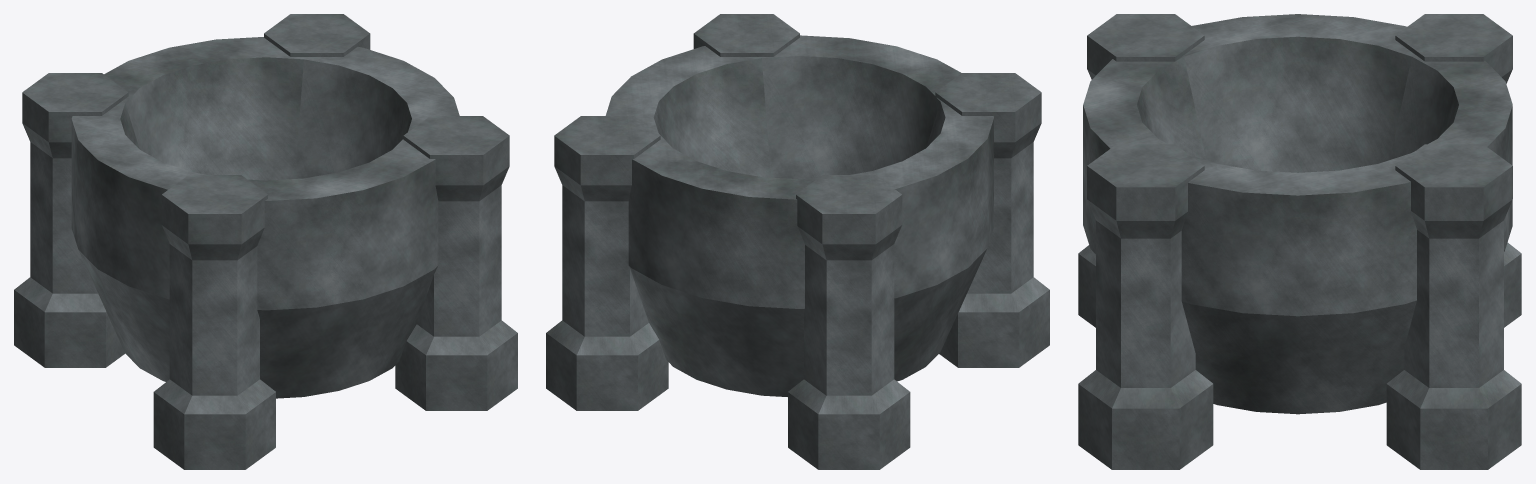
The model's file is Cauldron.fbx.
3 renders of one model, left to right at view 1: azimuth 30°, elevation 25°; view 2: azimuth 150°, elevation 25°; view 3: azimuth 270°, elevation 25°, orthographic. The views are drawn at different scales.
Visible parts, largest first — view 1: detail_light, column_round (×4); view 2: detail_light, column_round (×4); view 3: detail_light, column_round (×4).
Part boxes in pixels (box(x1,y1,x2,y2)): detail_light: box(71, 37, 459, 398); column_round (×4): box(14, 14, 517, 469); detail_light: box(605, 35, 993, 396); column_round (×4): box(546, 14, 1049, 469); detail_light: box(1083, 14, 1512, 414); column_round (×4): box(1078, 14, 1521, 469).
Bounding box in the file's own units: 13.94 × 10 × 14.39.
2 materials, 2 textured.
